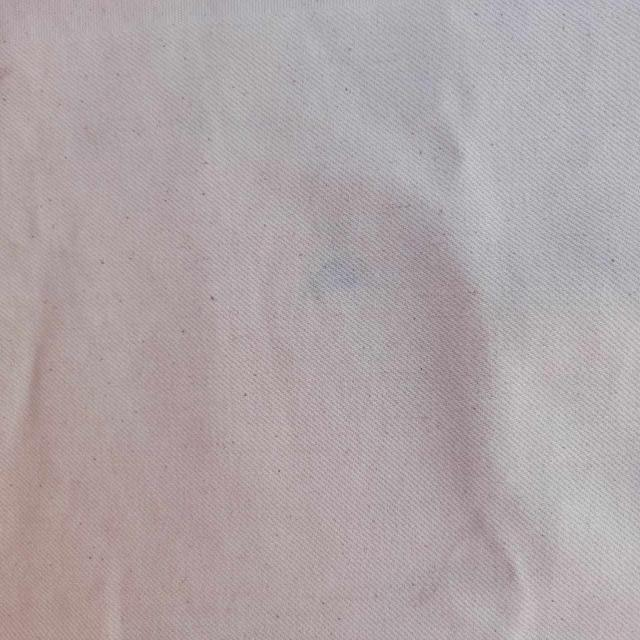taaaches: (295, 234, 375, 324)
